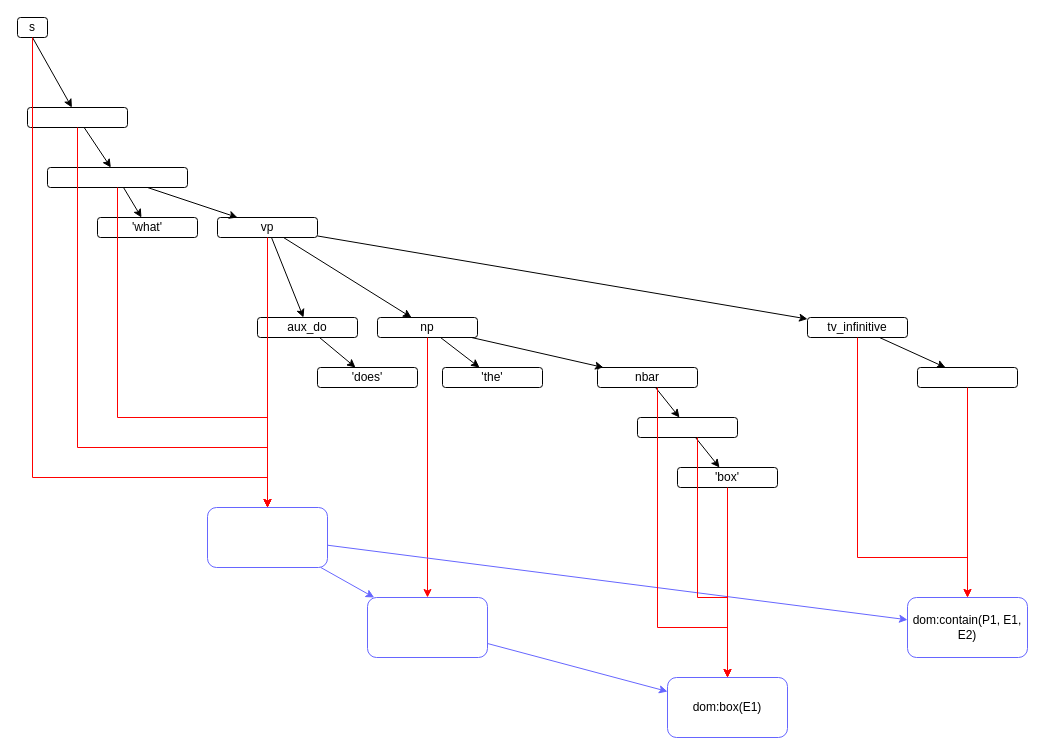
The diagram is 1045 pixels wide and 755 high, and some of its shapes have lost their labels. Each missing label, with the centre of its shape:
'contain': the point at 967,377
go:quant(none, E1, $nbar): the point at 427,627
go:quant_check($np, $tv_infinitive): the point at 267,537
interrogative: the point at 77,117
interrogative_clause: the point at 117,177
noun: the point at 687,427
